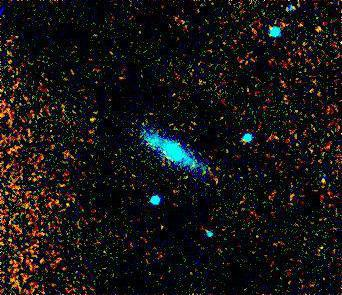star: (304, 16, 334, 46)
